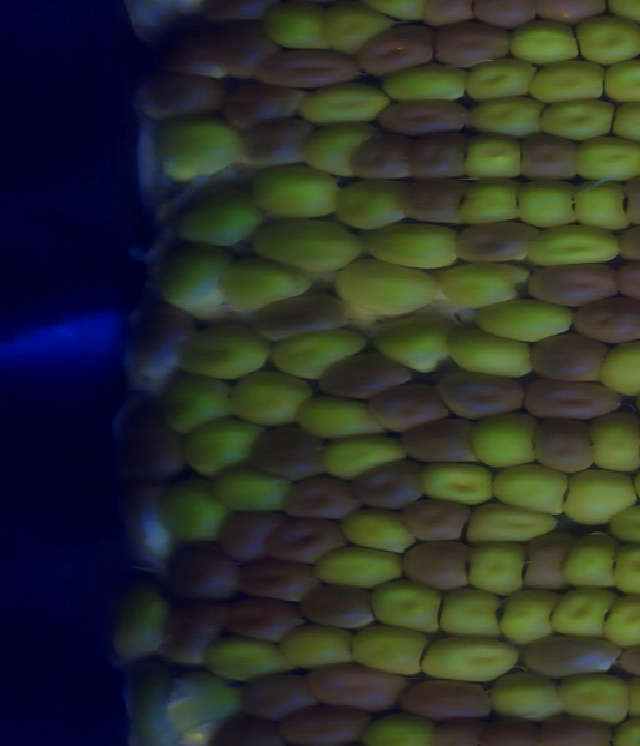fluorescent: (128, 664, 252, 746), (326, 252, 443, 320), (146, 110, 250, 186), (246, 213, 367, 275), (148, 241, 242, 320), (210, 252, 320, 316), (439, 322, 545, 388), (243, 157, 345, 225), (170, 322, 277, 384), (104, 576, 180, 663), (146, 471, 232, 547), (366, 311, 462, 379), (193, 629, 301, 689), (433, 255, 535, 317), (465, 294, 582, 348), (166, 192, 265, 255), (287, 389, 392, 448), (152, 367, 241, 436), (219, 369, 318, 431), (175, 413, 262, 483), (262, 326, 370, 382), (356, 218, 462, 275), (413, 631, 527, 684), (553, 463, 640, 532), (486, 457, 574, 523), (306, 537, 413, 590), (364, 573, 449, 638), (341, 618, 428, 680), (312, 427, 410, 482), (296, 116, 380, 180), (484, 664, 572, 725), (552, 667, 638, 729), (318, 1, 403, 63), (521, 54, 615, 110), (519, 222, 626, 271), (501, 11, 588, 71), (328, 170, 409, 234), (271, 617, 365, 671), (463, 410, 541, 474), (413, 454, 499, 512), (204, 462, 293, 517), (531, 94, 621, 148), (376, 56, 471, 107), (256, 1, 339, 59), (457, 50, 544, 105), (292, 79, 396, 125), (456, 502, 561, 547), (431, 583, 508, 644), (333, 505, 422, 557), (458, 537, 531, 600), (567, 8, 640, 70), (457, 129, 535, 186), (554, 530, 620, 597), (462, 94, 550, 144), (545, 583, 615, 645), (565, 176, 636, 235), (512, 175, 580, 236), (452, 175, 527, 230), (568, 134, 640, 186), (587, 408, 640, 477), (494, 585, 554, 643), (589, 332, 640, 399), (356, 706, 440, 746), (597, 589, 640, 650), (597, 54, 640, 107), (605, 536, 640, 599), (597, 501, 640, 552), (605, 95, 640, 151), (603, 712, 640, 746)
nonfluorescent: (117, 293, 205, 381), (107, 392, 188, 481), (298, 656, 409, 719), (157, 534, 249, 608), (514, 372, 634, 428), (342, 451, 434, 521), (513, 629, 627, 685), (392, 671, 501, 728), (154, 597, 239, 670), (249, 290, 356, 347), (247, 420, 336, 488), (202, 13, 288, 83), (111, 482, 180, 569), (427, 369, 533, 424), (359, 379, 457, 438), (248, 45, 368, 93), (232, 552, 328, 612), (214, 79, 317, 134), (314, 349, 417, 404), (350, 16, 437, 81), (257, 515, 353, 572), (365, 94, 478, 142), (392, 412, 487, 469), (421, 15, 515, 72), (230, 111, 316, 173), (150, 12, 227, 81), (291, 580, 384, 637), (216, 591, 311, 646), (230, 666, 323, 722), (396, 532, 476, 597), (523, 262, 625, 311), (270, 698, 371, 746), (134, 72, 229, 123), (209, 506, 291, 565), (393, 172, 477, 229), (527, 413, 601, 476), (448, 215, 539, 266), (524, 332, 613, 384), (393, 492, 477, 547), (519, 524, 580, 599), (510, 128, 582, 189), (275, 471, 361, 521), (399, 129, 474, 186), (565, 289, 640, 346), (341, 130, 415, 184), (529, 1, 620, 29), (464, 1, 541, 34), (416, 1, 482, 37), (607, 255, 640, 305), (610, 218, 640, 268)
